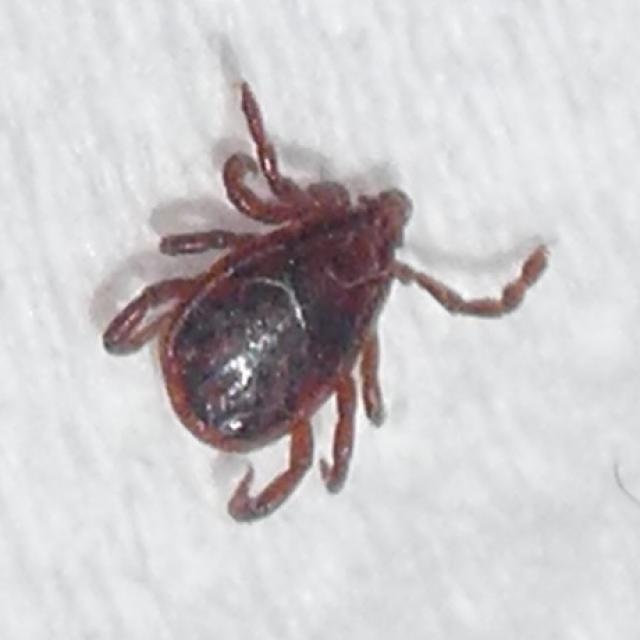Rhipicephalus Sanguineus-M: (100, 78, 551, 522)
